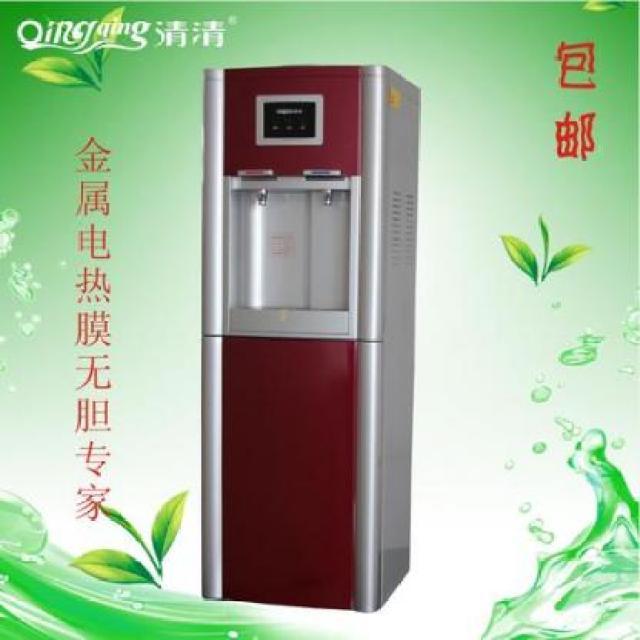cooler: (197, 62, 425, 616)
